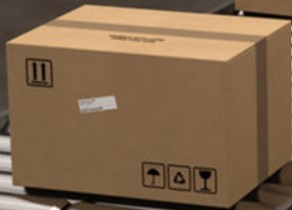stock: (7, 5, 292, 209)
